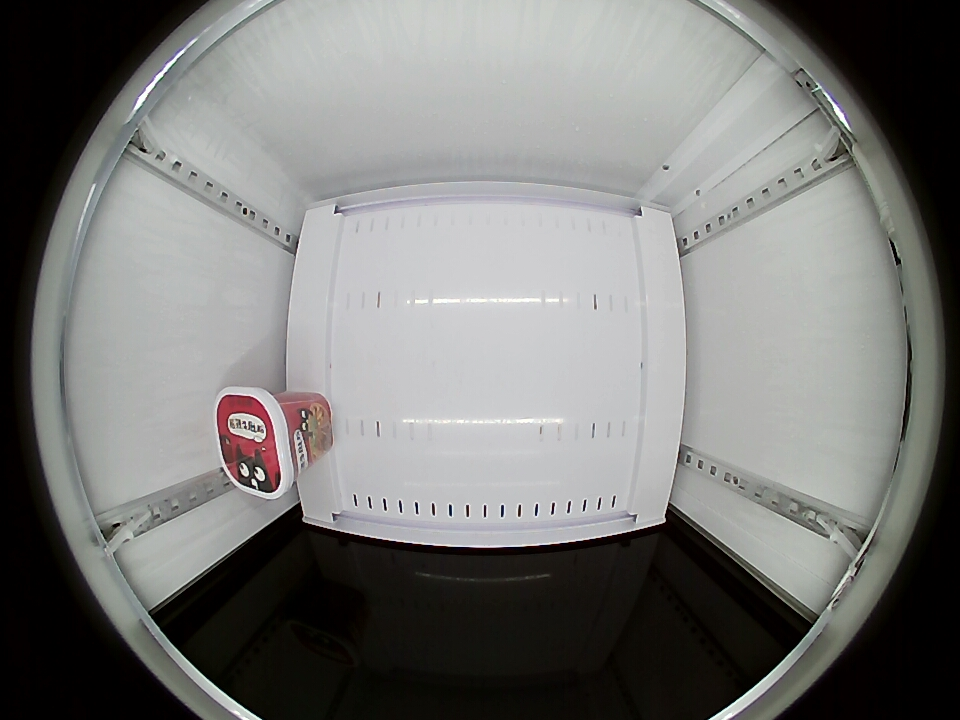niudufen: (216, 386, 304, 499)
